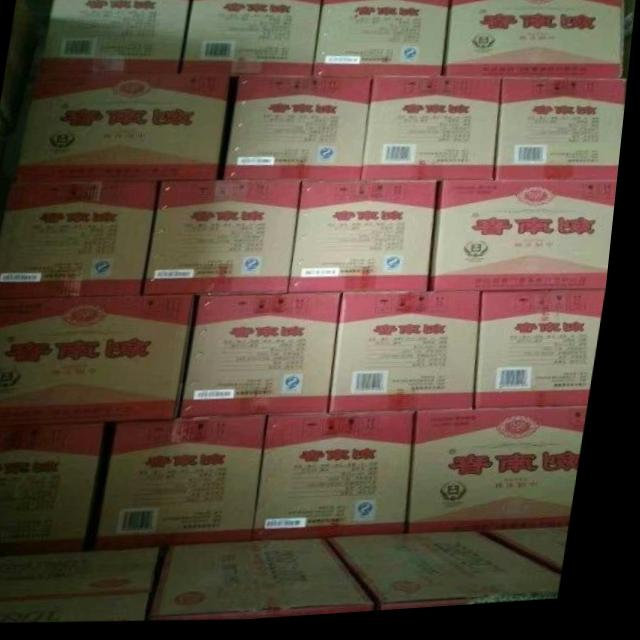box: (0, 297, 203, 428), (21, 72, 230, 183), (419, 414, 597, 541), (107, 420, 274, 553), (433, 187, 622, 298), (263, 415, 423, 545), (187, 298, 348, 419), (0, 183, 161, 299), (335, 539, 573, 617), (149, 182, 305, 299), (161, 544, 388, 624), (338, 297, 488, 416), (293, 185, 441, 298), (227, 77, 373, 185), (447, 0, 625, 88), (483, 299, 613, 415), (0, 426, 113, 557), (367, 81, 505, 187), (499, 85, 628, 190), (314, 0, 449, 82), (183, 0, 323, 79), (44, 0, 189, 75), (0, 550, 172, 599), (0, 595, 162, 624), (493, 535, 581, 584)
